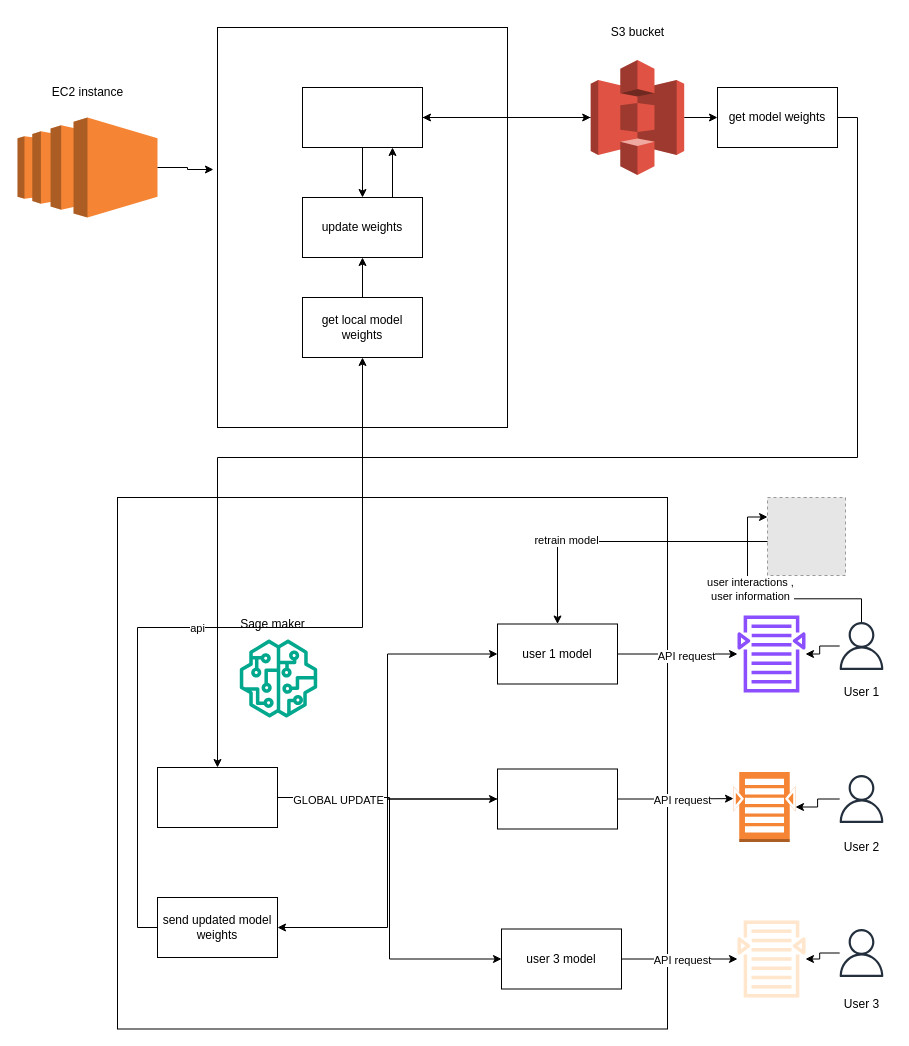
Image size: 909x1046. Some labels were removed from this diagram. Grey dashed boxes stand in for pictures. The shapes that lost their labels are listed below. From the top down, each one's centre as x and y in pixels, then its label:
point 362,117: Global model
point 217,797: update weights/ update model
point 557,798: user 2 model
